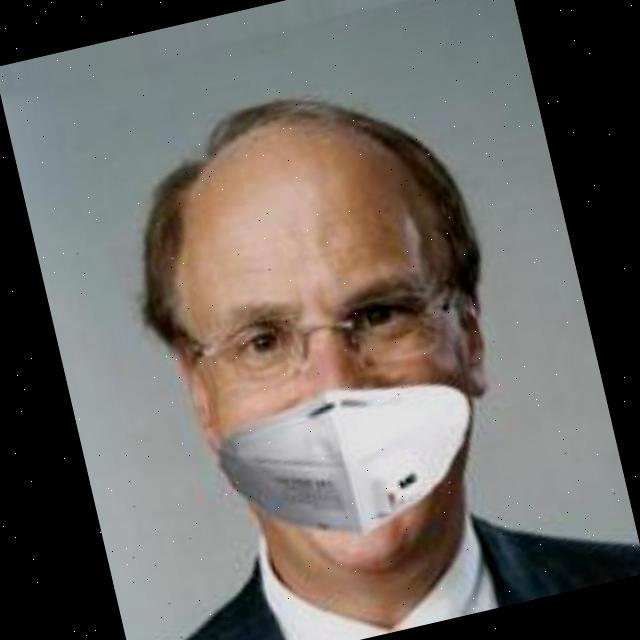suspicion: (59, 24, 541, 603)
